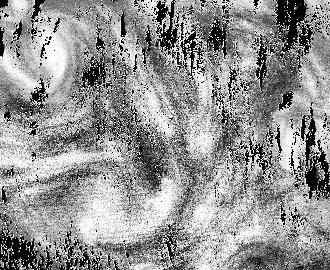CE: (4, 11, 94, 94)
